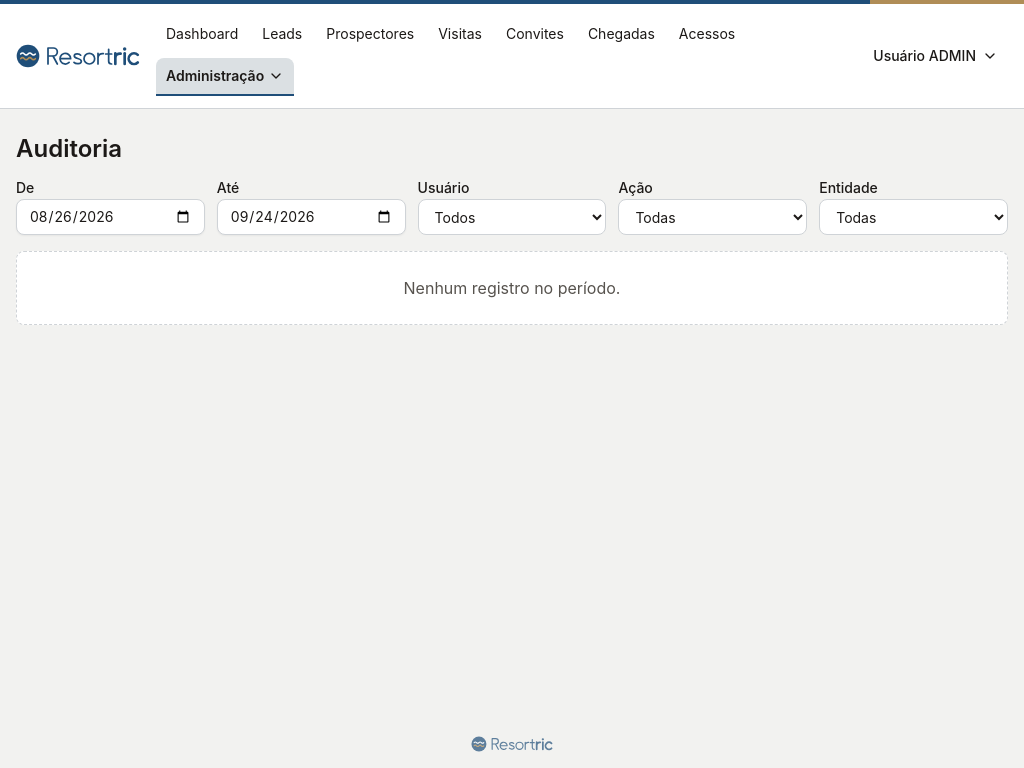
Test: XF4 — filtros e paginação › período inválido não é enviado
The image size is (1024, 768).
Expected: the text "Nenhum registro no período." is shown, [16, 251, 1008, 325]
Type "2026-09-30" into the date field labelled "De". click: (110, 217)
box: [16, 199, 205, 235]
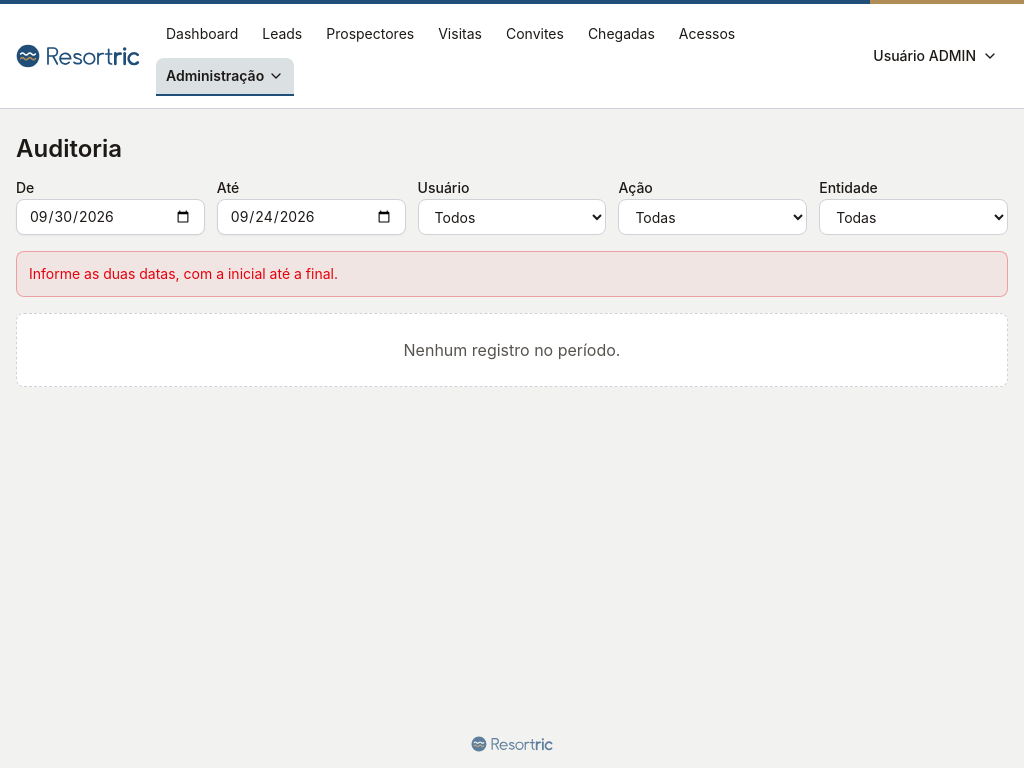
Result: the message reads "Informe as duas datas, com a inicial até a final." at [29, 265, 338, 282]
